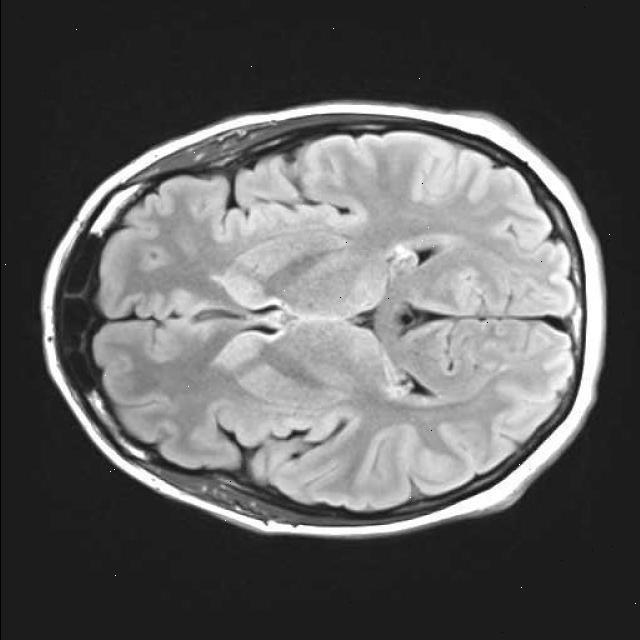No_Tumor: (42, 102, 604, 536)
